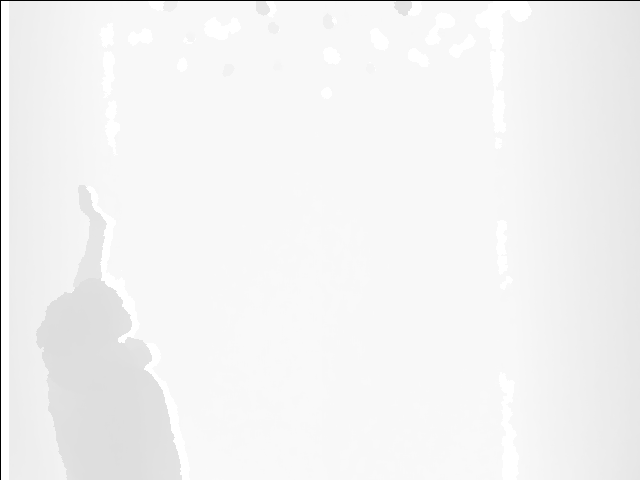hand: (71, 183, 112, 234)
